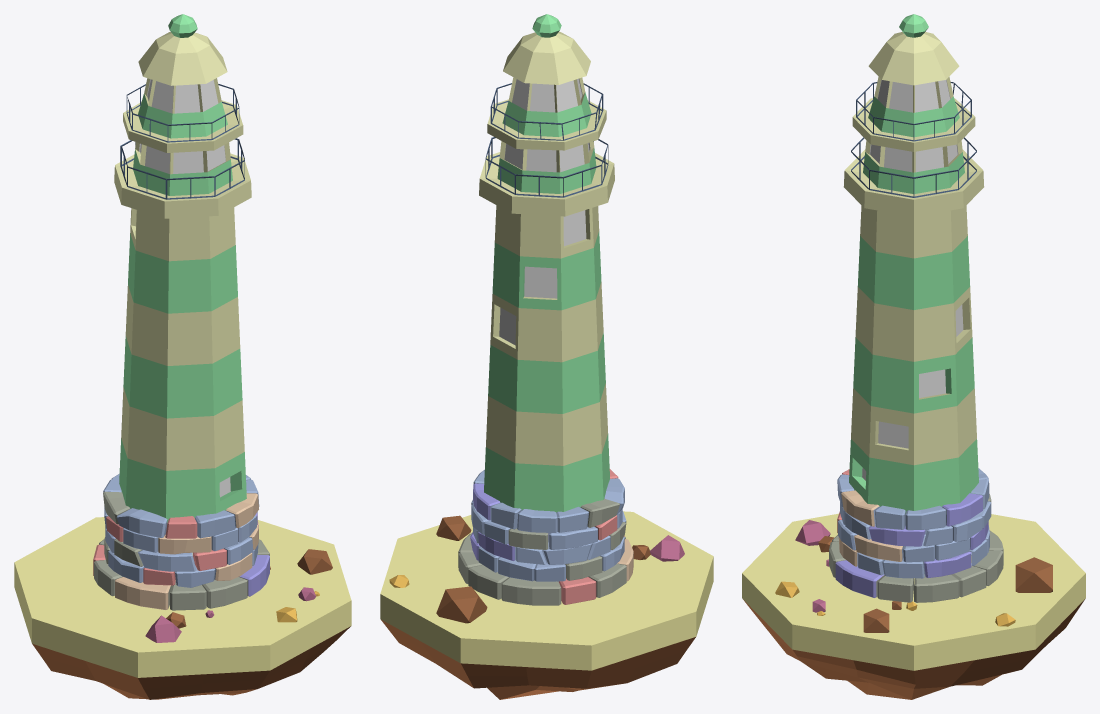
3 renders of one model, left to right at view 1: azimuth 30°, elevation 25°; view 2: azimuth 150°, elevation 25°; view 3: azimuth 270°, elevation 25°, orthographic.
Visible parts, largest first — view 1: Cylinder, Circle.001, Circle, Cube.007, Cube.004, Cube.002, Cube.001, Cube.003, Cylinder.001, Cylinder.002, Cube, Cube.012; view 2: Cylinder, Circle.001, Circle, Cube.007, Cube.004, Cube.001, Cube.003, Cube.002, Cube.015, Cylinder.001, Cylinder.002, Cube (+1 smaller); view 3: Cylinder, Circle.001, Circle, Cube.007, Cube.004, Cube.003, Cube.001, Cube.002, Cube.015, Cylinder.001, Cylinder.002, Cube.012 (+1 smaller).
Part boxes in pixels (<box>): Cylinder: <box>114,14,251,522</box>; Circle.001: <box>14,517,351,677</box>; Circle: <box>32,626,350,699</box>; Cube.007: <box>93,539,269,610</box>; Cube.004: <box>103,473,259,538</box>; Cube.002: <box>105,521,258,571</box>; Cube.001: <box>104,537,258,587</box>; Cube.003: <box>104,507,257,554</box>; Cylinder.001: <box>120,138,244,199</box>; Cylinder.002: <box>126,84,239,142</box>; Cube: <box>297,549,332,574</box>; Cube.012: <box>145,615,181,642</box>; Cylinder: <box>479,14,614,512</box>; Circle.001: <box>380,511,713,670</box>; Circle: <box>381,619,695,699</box>; Cube.007: <box>458,533,633,605</box>; Cube.004: <box>473,469,624,532</box>; Cube.001: <box>470,532,624,581</box>; Cube.003: <box>471,500,622,549</box>; Cube.002: <box>473,511,626,564</box>; Cube.015: <box>436,586,487,623</box>; Cylinder.001: <box>485,137,608,197</box>; Cylinder.002: <box>490,83,603,140</box>; Cube: <box>436,515,471,540</box>; Cylinder: <box>843,14,984,513</box>; Circle.001: <box>742,513,1085,670</box>; Circle: <box>743,599,1084,699</box>; Cube.007: <box>829,530,1003,602</box>; Cube.004: <box>837,468,989,530</box>; Cube.003: <box>840,494,991,546</box>; Cube.001: <box>838,525,989,578</box>; Cube.002: <box>837,511,988,562</box>; Cube.015: <box>1015,557,1052,592</box>; Cylinder.001: <box>851,137,976,197</box>; Cylinder.002: <box>856,82,971,141</box>; Cube.012: <box>795,520,830,545</box>.
Size of the model in its own units: 4252 by 8830 by 4252.
